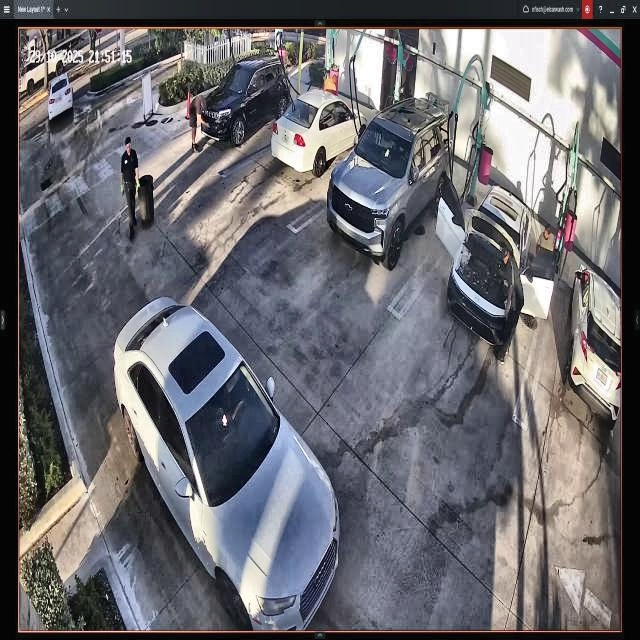Car: (114, 300, 339, 630), (329, 89, 450, 269), (444, 174, 557, 352), (200, 57, 288, 152), (274, 90, 367, 172)
